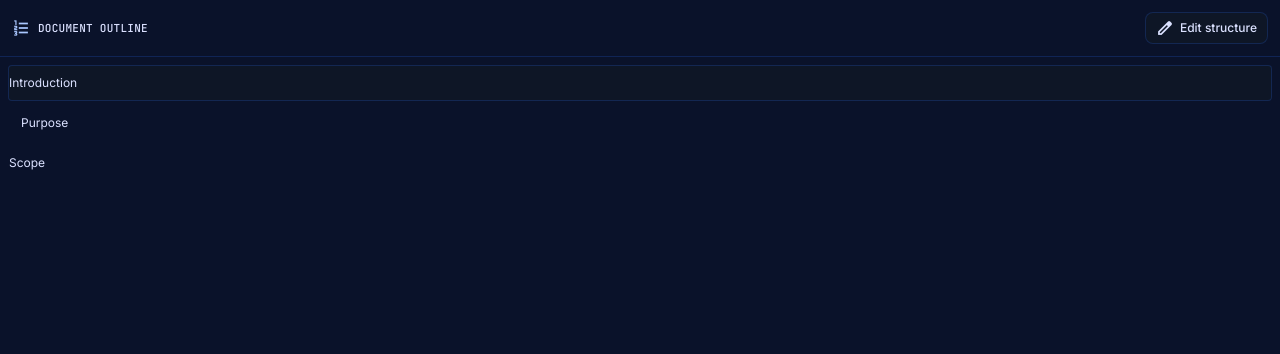
Test: Outline › edit structure › blocks moves that cannot happen at the ends and sub-sections cannot add sub-sections
Click the button "Edit structure" at (1206, 28), box [1145,12,1268,44]
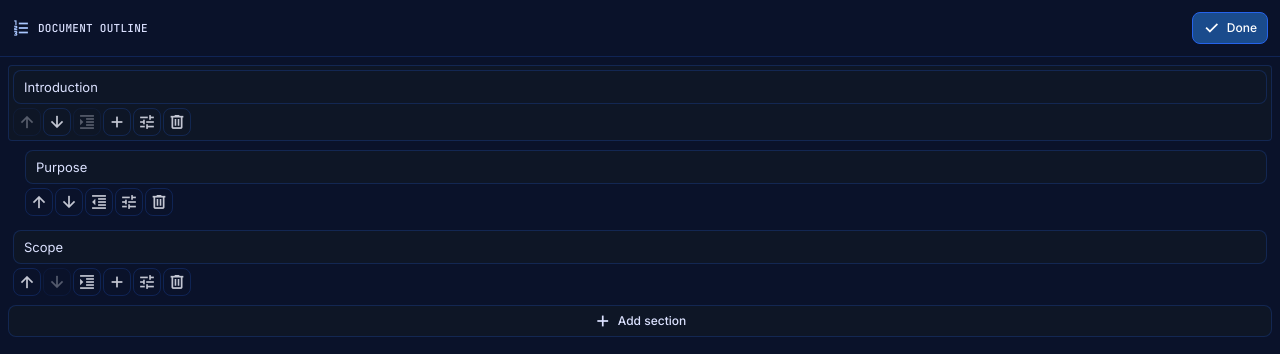
expect the button named "Move up Introduction" is disabled: met, box [13,108,41,136]
expect the button named "Move down Scope" is disabled: met, box [43,268,71,296]
expect the button named "Indent Introduction" is disabled: met, box [73,108,101,136]
